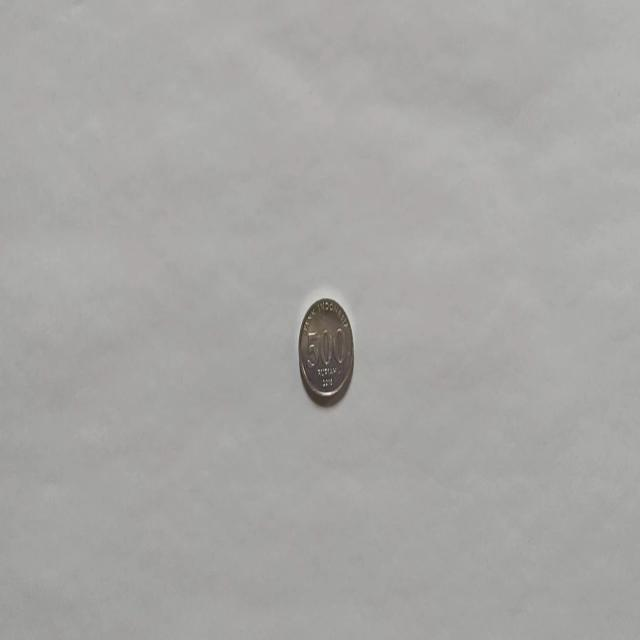lima ratus rupiah: (297, 295, 355, 406)
